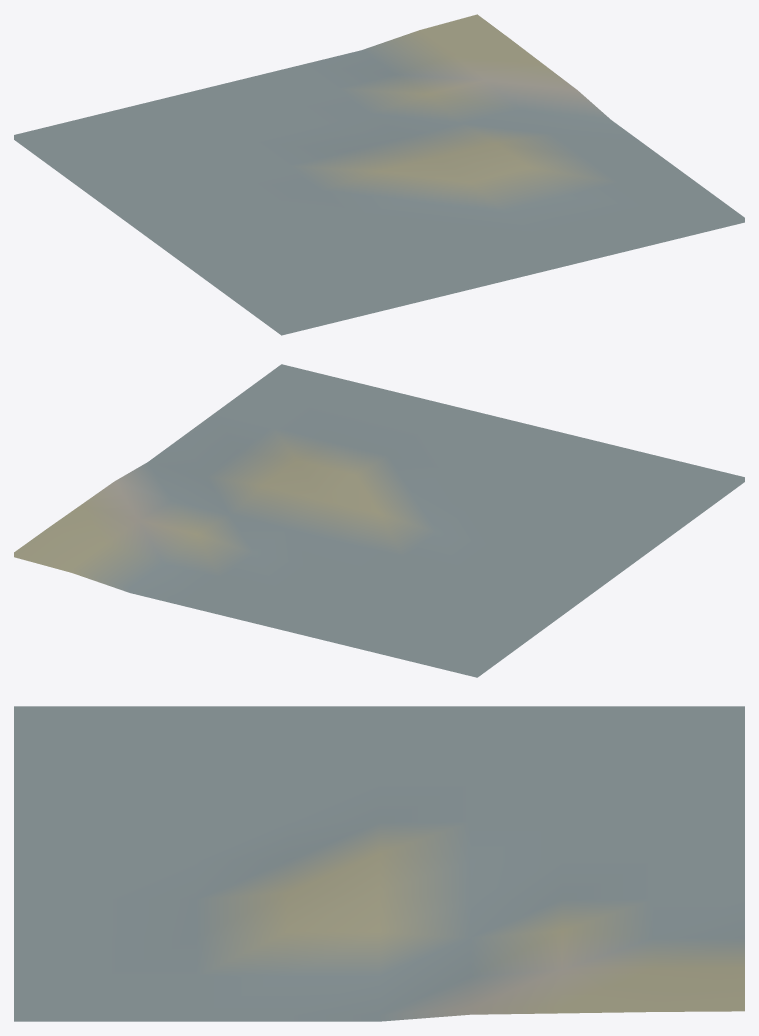
3 renders of one model, top to bottom at view 1: azimuth 30°, elevation 25°; view 2: azimuth 150°, elevation 25°; view 3: azimuth 270°, elevation 25°, orthographic. The views are drawn at different scales.
Visible parts, largest first — view 1: prim0; view 2: prim0; view 3: prim0.
Part boxes in pixels (x1,y1,x2,y2): prim0: (14, 14, 744, 335); prim0: (14, 364, 744, 677); prim0: (14, 706, 744, 1021).
Bounding box in the file's own units: 512 × 12.96 × 512.
